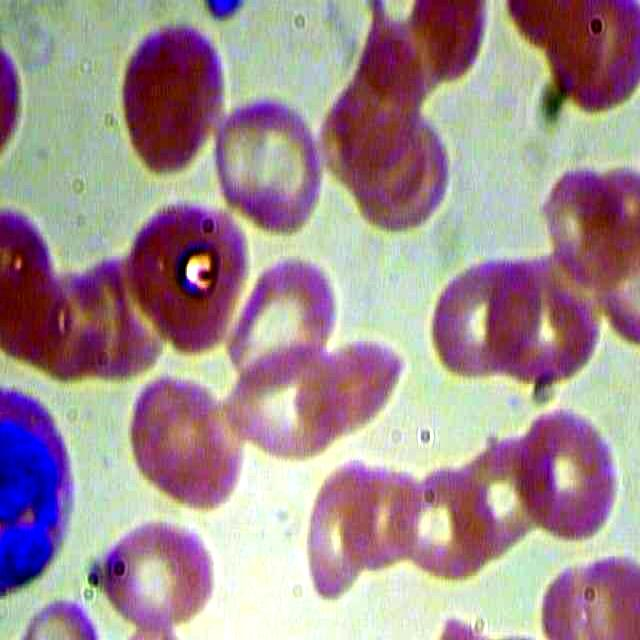RBC: (120, 191, 248, 360), (106, 26, 236, 182), (121, 367, 252, 517), (213, 84, 336, 237), (511, 392, 623, 547), (290, 321, 404, 447), (429, 249, 543, 375), (461, 426, 567, 550), (99, 521, 217, 628), (400, 452, 491, 577), (295, 458, 375, 590), (343, 455, 419, 577)
WBC: (1, 388, 81, 600)
